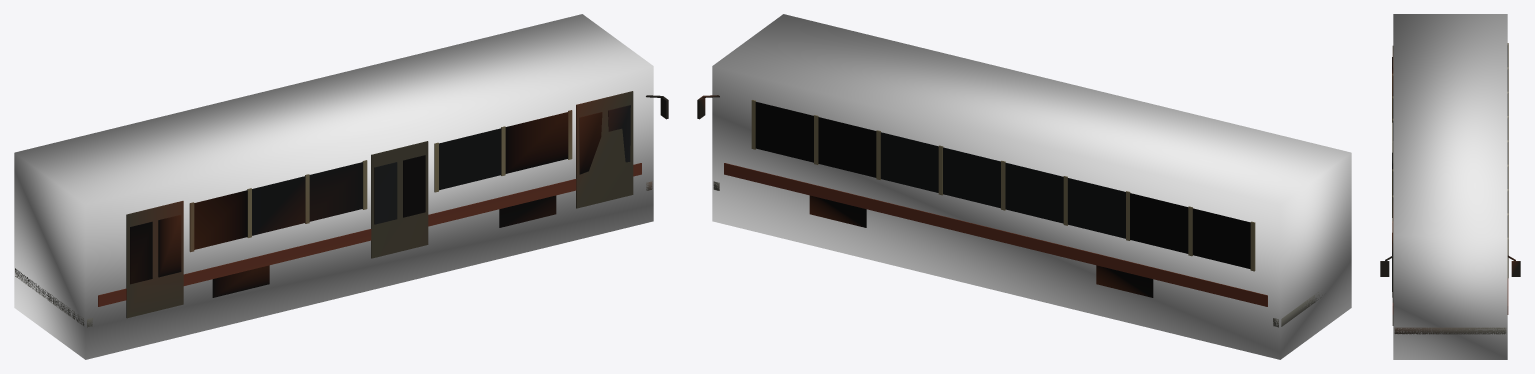
File: autobus.glb
3 views of the same model, side by side, from view 1: azimuth 30°, elevation 25°; view 2: azimuth 150°, elevation 25°; view 3: azimuth 270°, elevation 25° (orthographic). The views are drawn at different scales.
Parts seen in each view (by area): view 1: autobus-colcaja, autobus; view 2: autobus-colcaja, autobus; view 3: autobus-colcaja, autobus.
Boxes of the visible parts, box(x1,y1,x2,y2) form: autobus-colcaja: box(14, 14, 653, 359); autobus: box(15, 91, 668, 327); autobus-colcaja: box(712, 14, 1351, 359); autobus: box(697, 95, 1322, 327); autobus-colcaja: box(1393, 14, 1507, 359); autobus: box(1380, 43, 1520, 334).
Size of the model in its own units: 11.64 by 3 by 3.08.
